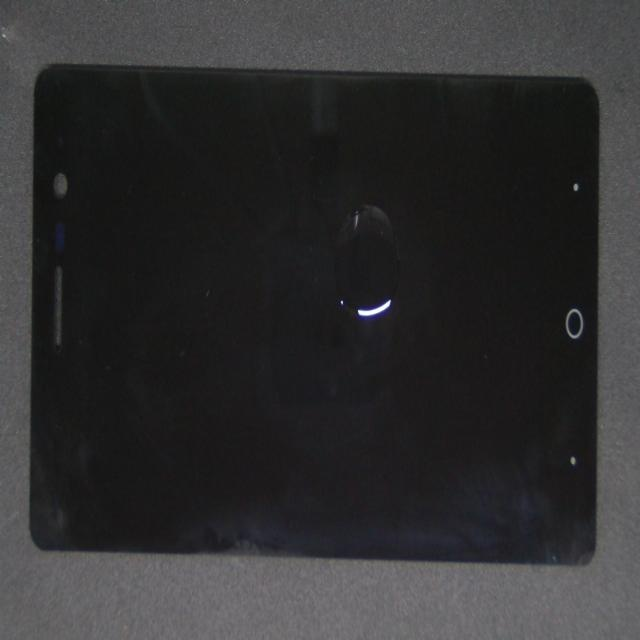oil: (214, 155, 608, 378)
